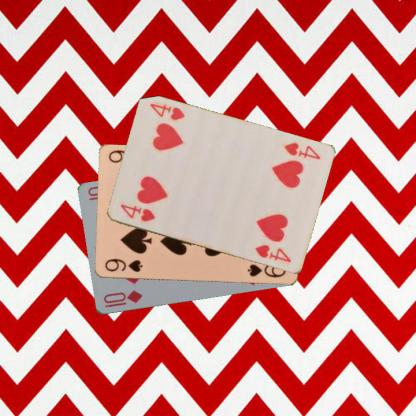10d: (100, 288, 144, 309)
4h: (282, 140, 322, 161), (117, 202, 156, 223)
9s: (102, 256, 144, 274)
